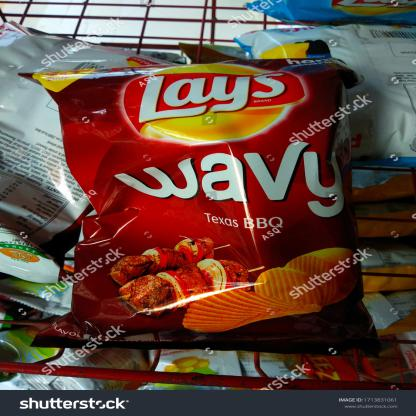potatochip: (16, 53, 398, 359), (0, 13, 194, 273), (229, 13, 415, 183), (235, 0, 416, 37)
